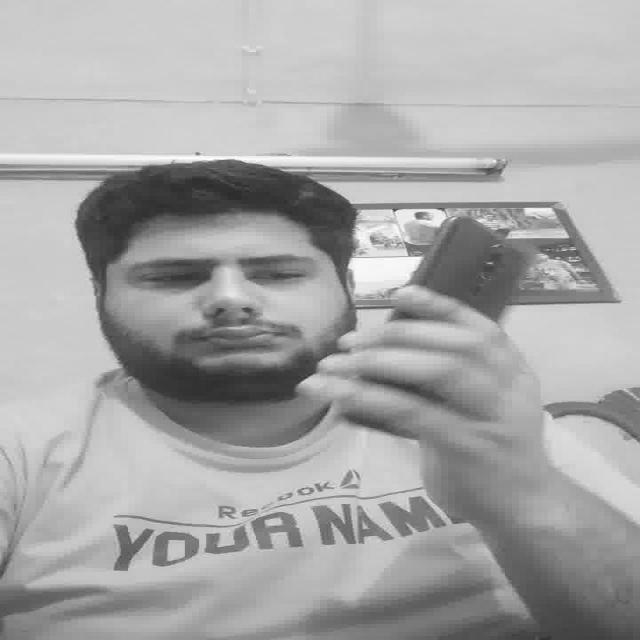fake: (384, 213, 526, 409)
real: (105, 220, 344, 373), (114, 249, 329, 293)
